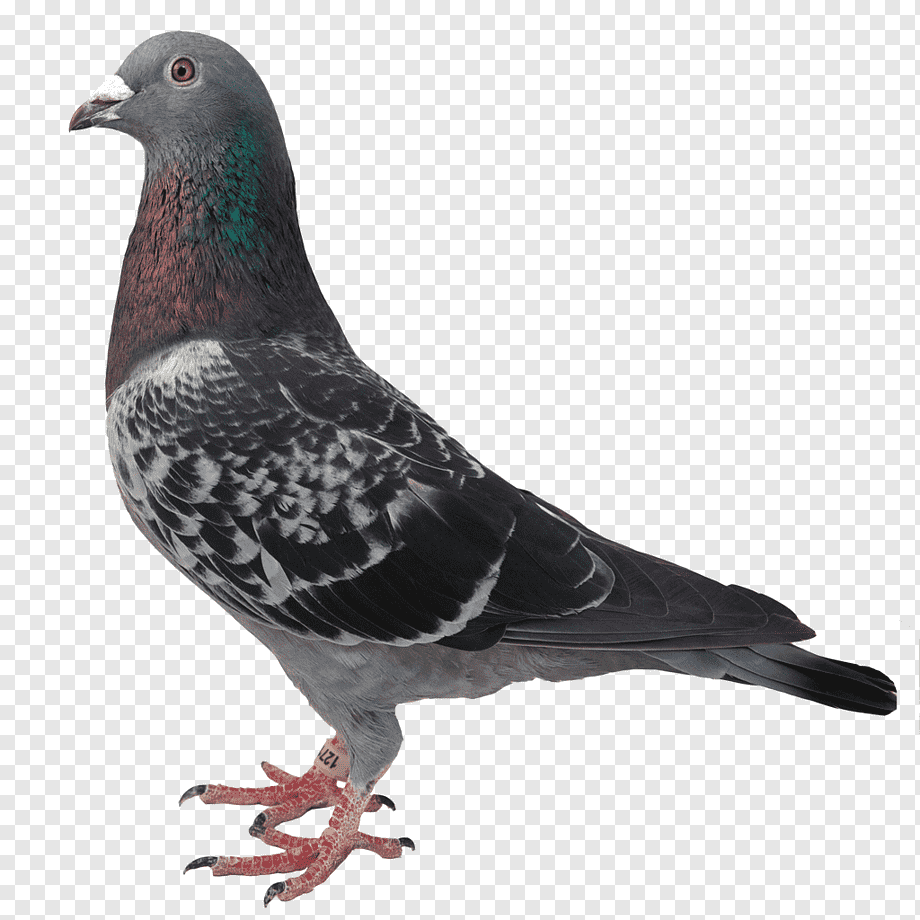Flying Rat: (62, 39, 911, 912)
